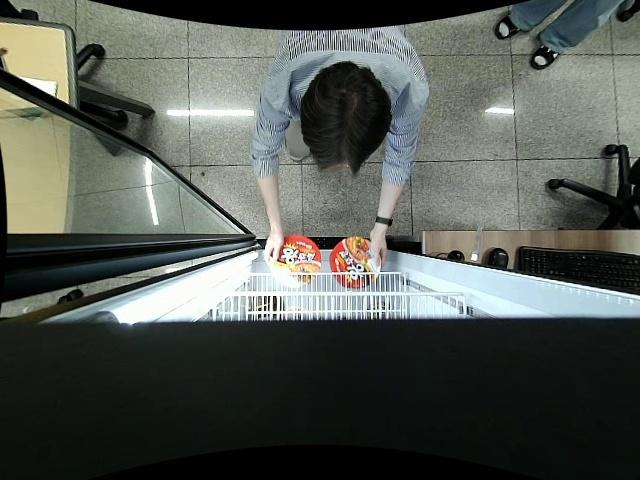00_hand: (368, 228, 388, 270), (262, 230, 284, 265)
10_wangTtukkeong: (331, 236, 382, 293), (269, 235, 317, 288)
